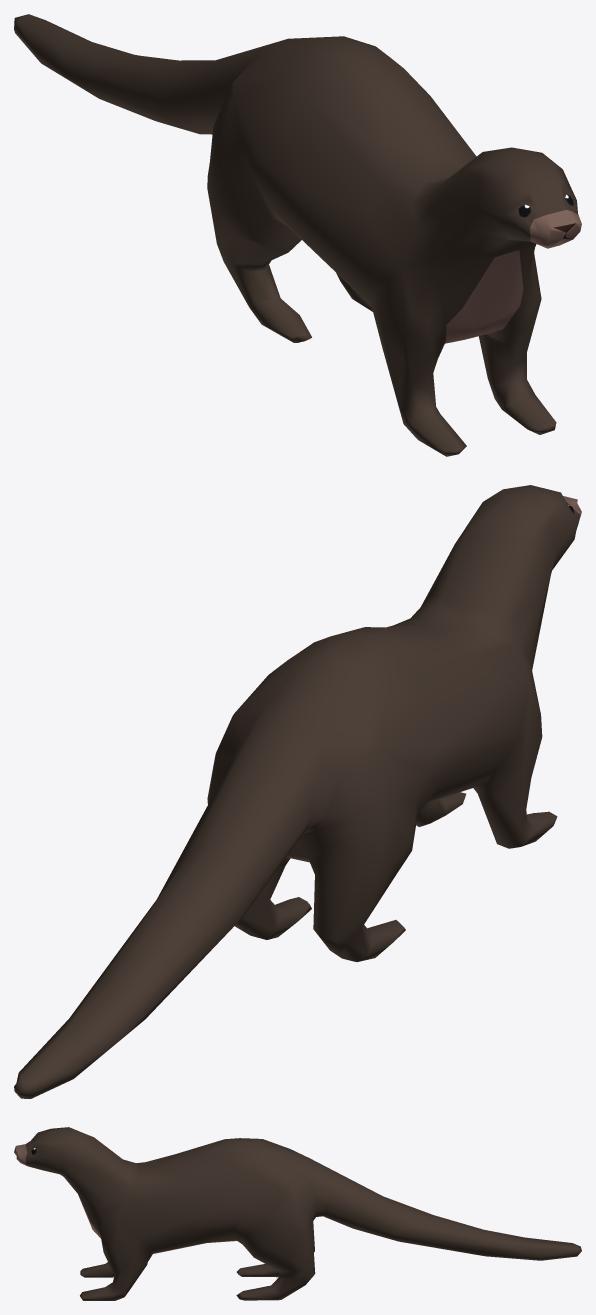
Rendered from Otter.glb.
3 views of the same model, one above another, from view 1: azimuth 30°, elevation 25°; view 2: azimuth 150°, elevation 25°; view 3: azimuth 270°, elevation 25° (orthographic). The views are drawn at different scales.
Visible parts, largest first — view 1: Otter; view 2: Otter; view 3: Otter.
Boxes of the visible parts, x1,y1,x2,y2 form: Otter: [14, 14, 581, 456]; Otter: [14, 485, 581, 1098]; Otter: [14, 1127, 581, 1300].
Size of what is drawn, in the model's own units: 0.3305 by 0.5284 by 1.73.
Materials: 1 (1 with a texture image).
